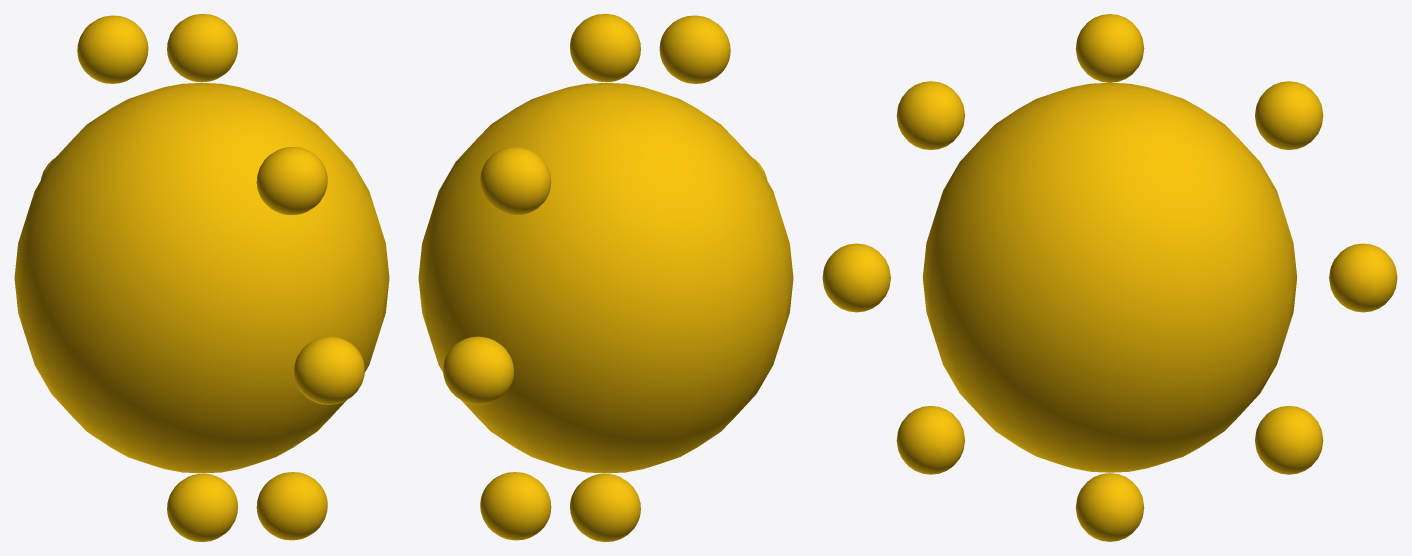
The model's file is Sun.glb.
3 views of the same model, side by side, from view 1: azimuth 30°, elevation 25°; view 2: azimuth 150°, elevation 25°; view 3: azimuth 270°, elevation 25° (orthographic).
Parts seen in each view (by area): view 1: Sphere, Sphere.007, Sphere.002, Sphere.004, Sphere.001, Sphere.008, Sphere.005; view 2: Sphere, Sphere.005, Sphere.002, Sphere.003, Sphere.001, Sphere.006, Sphere.007; view 3: Sphere, Sphere.001, Sphere.002, Sphere.003, Sphere.004, Sphere.005, Sphere.006, Sphere.007, Sphere.008.
Part boxes in pixels (x1,y1,x2,y2): Sphere: (14,83,389,473); Sphere.007: (77,15,148,83); Sphere.002: (167,473,237,541); Sphere.004: (294,336,364,404); Sphere.001: (167,14,237,82); Sphere.008: (256,472,327,540); Sphere.005: (256,147,327,215); Sphere: (418,83,793,473); Sphere.005: (659,15,730,83); Sphere.002: (570,473,640,541); Sphere.003: (443,336,513,404); Sphere.001: (570,14,640,82); Sphere.006: (480,472,551,540); Sphere.007: (480,147,551,215); Sphere: (922,82,1297,472); Sphere.001: (1075,14,1144,82); Sphere.002: (1075,473,1144,541); Sphere.003: (1329,243,1397,312); Sphere.004: (822,243,890,312); Sphere.005: (896,81,964,149); Sphere.006: (1255,406,1323,474); Sphere.007: (1255,81,1323,149); Sphere.008: (896,406,964,474).
Bounding box in the file's own units: 0.1862 × 0.286 × 0.286.
